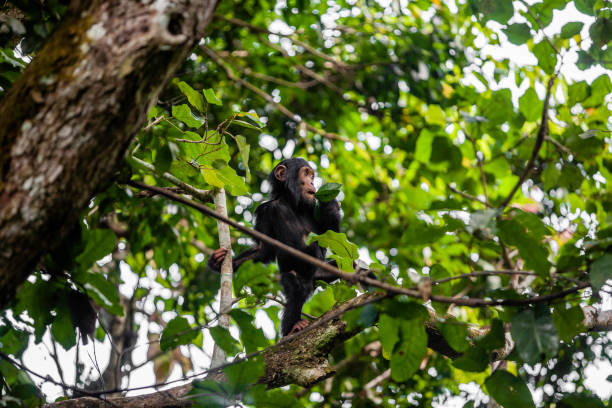chimpanzee: (266, 151, 322, 212)
